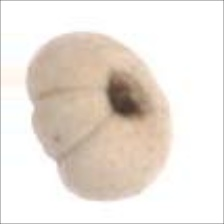L5: (29, 86, 112, 160), (105, 66, 155, 124)
L6: (24, 29, 176, 204)
